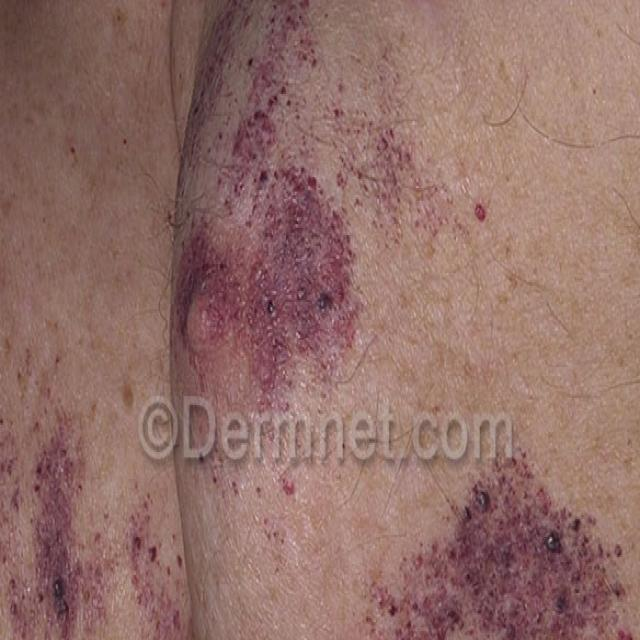Vascular Tumors: (182, 15, 407, 410), (368, 439, 640, 640), (0, 388, 93, 640), (110, 524, 223, 640)
